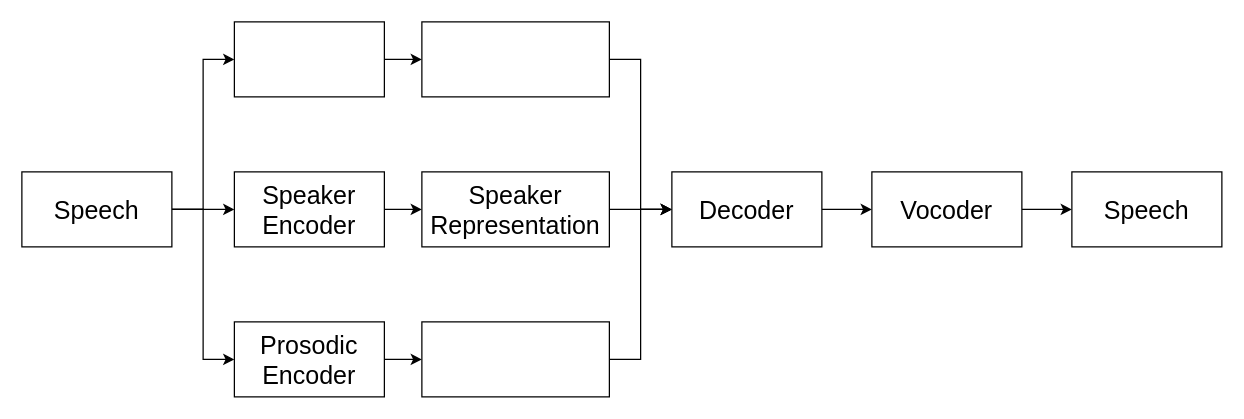
The diagram is 1244 pixels wide and 419 high, and some of its shapes have lost their labels. The centre of each missing label's shape, as x and y in pixels:
Linguistic Encoder: (x=308, y=59)
Linguistic Representation: (x=515, y=59)
Prosodic Representation: (x=515, y=359)
